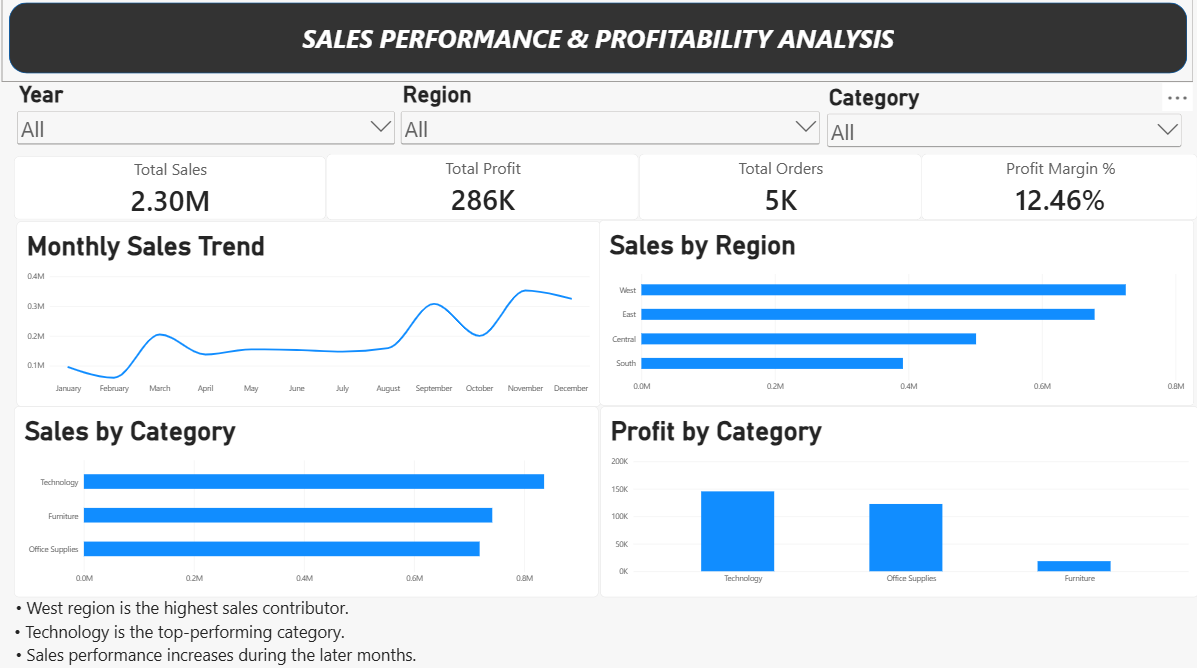

What the dashboard file says about the page in this screenshot:
{"tool":"powerbi","page":{"name":"Overview","canvas":[1920,1080],"ordinal":0},"visuals":[{"type":"shape","box":[3.6,0,1909.2,137.5],"z":0},{"type":"slicer","fields":{"Values":["Superstore_Sales_Cleaned.Order Date.Variation.Date Hierarchy.Year"]},"box":[23.8,138.5,614.6,114.7],"z":1000},{"type":"slicer","fields":{"Values":["Superstore_Sales_Cleaned.Region"]},"box":[638.8,137.5,680.4,114],"z":2000},{"type":"slicer","fields":{"Values":["Superstore_Sales_Cleaned.Category"]},"box":[1319.2,143,577.3,114],"z":3000},{"type":"cardVisual","fields":{"Data":["Superstore_Sales_Cleaned.Total Sales"]},"box":[23.8,257.5,499.9,101.7],"z":4000},{"type":"cardVisual","fields":{"Data":["Superstore_Sales_Cleaned.Total Profit"]},"box":[523.7,253.2,499.9,106],"z":5000},{"type":"cardVisual","fields":{"Data":["Superstore_Sales_Cleaned.Total Orders"]},"box":[1023.6,253.2,452.3,106],"z":6000},{"type":"cardVisual","fields":{"Data":["Superstore_Sales_Cleaned.Profit Margin %"]},"box":[1475.9,253.2,443.6,106],"z":7000},{"type":"lineChart","title":"Monthly Sales Trend","fields":{"Category":["Superstore_Sales_Cleaned.Order Date.Variation.Date Hierarchy.Month"],"Y":["Sum(Superstore_Sales_Cleaned.Sales)"]},"box":[27.1,362.5,935.6,296.8],"z":8000},{"type":"clusteredBarChart","title":"Sales by Region","fields":{"Category":["Superstore_Sales_Cleaned.Region"],"Y":["Sum(Superstore_Sales_Cleaned.Sales)"]},"box":[959.1,360.1,953.7,296.8],"z":9000},{"type":"clusteredBarChart","title":"Sales by Category","fields":{"Category":["Superstore_Sales_Cleaned.Category"],"Y":["Sum(Superstore_Sales_Cleaned.Sales)"]},"box":[25,657.4,935.6,305.8],"z":10000},{"type":"columnChart","title":"Profit by Category","fields":{"Category":["Superstore_Sales_Cleaned.Category"],"Y":["Sum(Superstore_Sales_Cleaned.Profit)"]},"box":[961.8,657.4,959.1,305.8],"z":11000},{"type":"textbox","box":[25.3,962.7,1887.5,38],"z":12000},{"type":"textbox","box":[23.5,1000.7,1873,36.2],"z":13000},{"type":"textbox","box":[25.3,1036.9,1887.5,43.4],"z":14000}]}

Visuals, with their boxes in screenshot pixels (x1, y1, x2, y2), scaled from the page's 1920x1080 canvas onto the 1197x668 screenshot:
shape: 2/0/1193/85
slicer - Superstore_Sales_Cleaned.Order Date.Variation.Date Hierarchy.Year: 15/86/398/157
slicer - Superstore_Sales_Cleaned.Region: 398/85/822/156
slicer - Superstore_Sales_Cleaned.Category: 822/88/1182/159
cardVisual - Superstore_Sales_Cleaned.Total Sales: 15/159/326/222
cardVisual - Superstore_Sales_Cleaned.Total Profit: 326/157/638/222
cardVisual - Superstore_Sales_Cleaned.Total Orders: 638/157/920/222
cardVisual - Superstore_Sales_Cleaned.Profit Margin %: 920/157/1196/222
"Monthly Sales Trend" lineChart: 17/224/600/408
"Sales by Region" clusteredBarChart: 598/223/1193/406
"Sales by Category" clusteredBarChart: 16/407/599/596
"Profit by Category" columnChart: 600/407/1196/596
textbox: 16/595/1193/619
textbox: 15/619/1182/641
textbox: 16/641/1193/667
